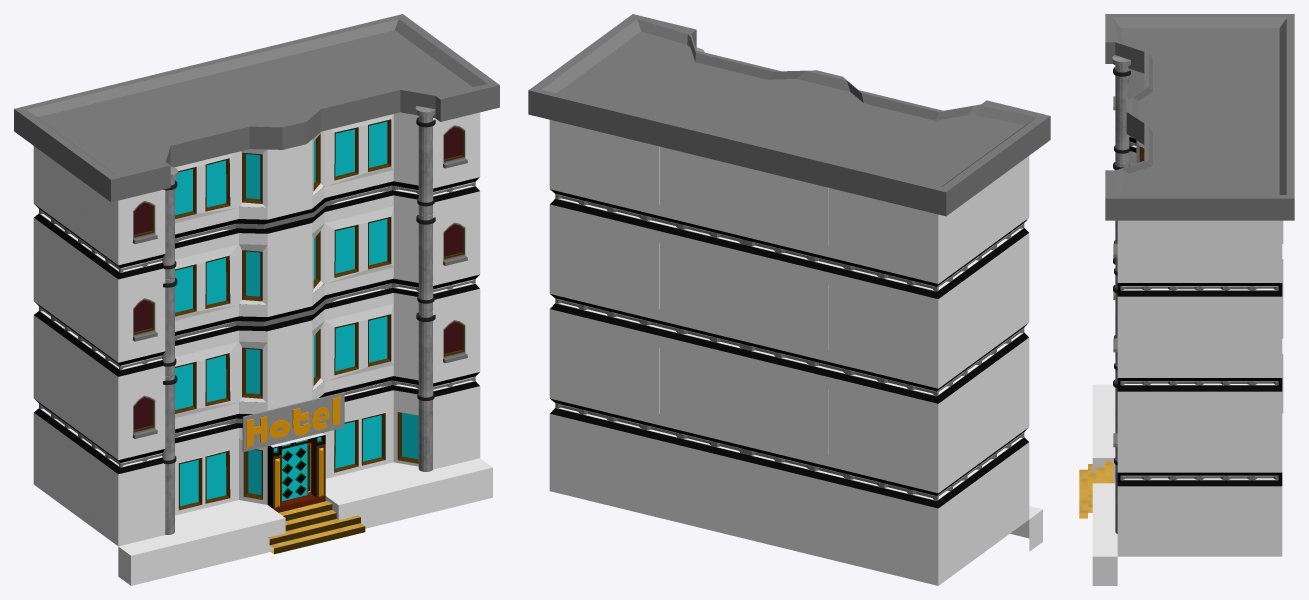
The model's file is HotelBrancoLOD0.fbx.
3 views of the same model, side by side, from view 1: azimuth 30°, elevation 25°; view 2: azimuth 150°, elevation 25°; view 3: azimuth 270°, elevation 25° (orthographic). The views are drawn at different scales.
Parts seen in each view (by area): view 1: HotelAndares; view 2: HotelAndares; view 3: HotelAndares.
Boxes of the visible parts, bbox=[...] form: HotelAndares: bbox=[14, 14, 499, 585]; HotelAndares: bbox=[528, 14, 1050, 585]; HotelAndares: bbox=[1079, 14, 1294, 585].
Size of the model in its own units: 1544 by 1535 by 760.
